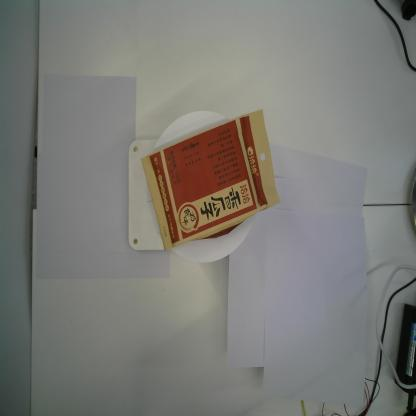Dried Food: (140, 108, 282, 254)
